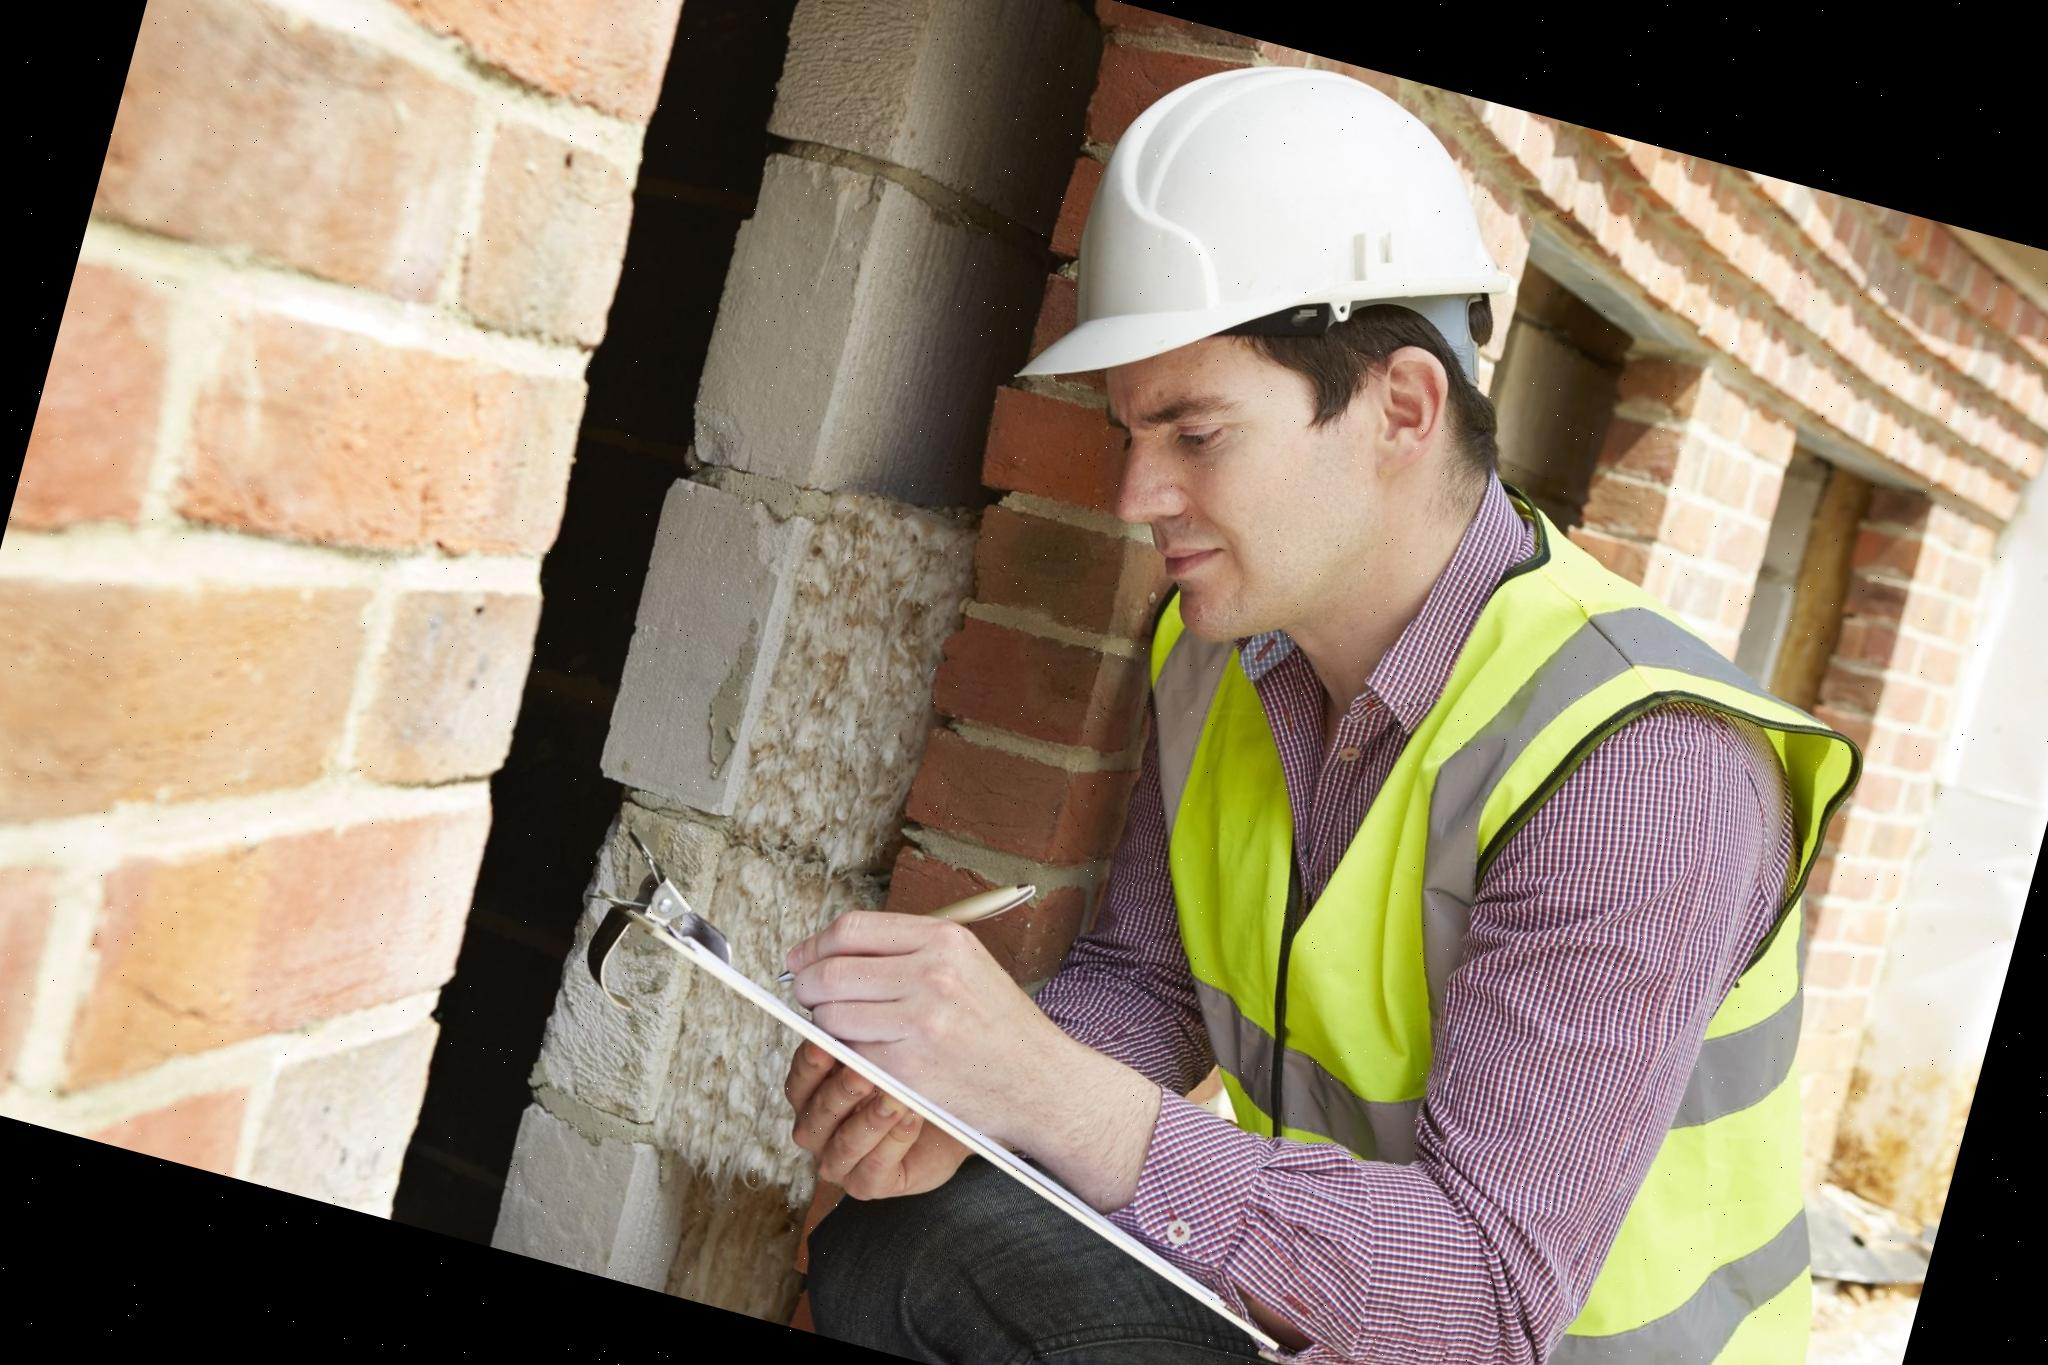helmet: (1000, 3, 1567, 513)
wear: (958, 619, 1964, 1365)
